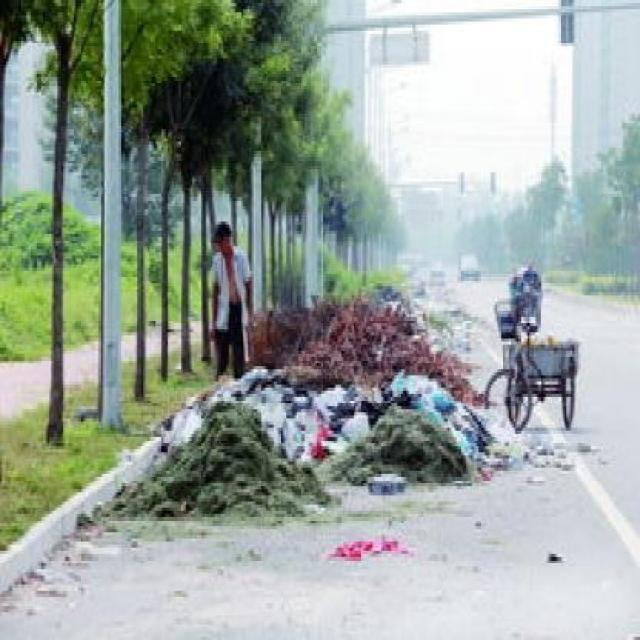garbage: (163, 363, 472, 520), (259, 289, 470, 400), (122, 443, 208, 526), (479, 425, 600, 478), (323, 523, 407, 566)
